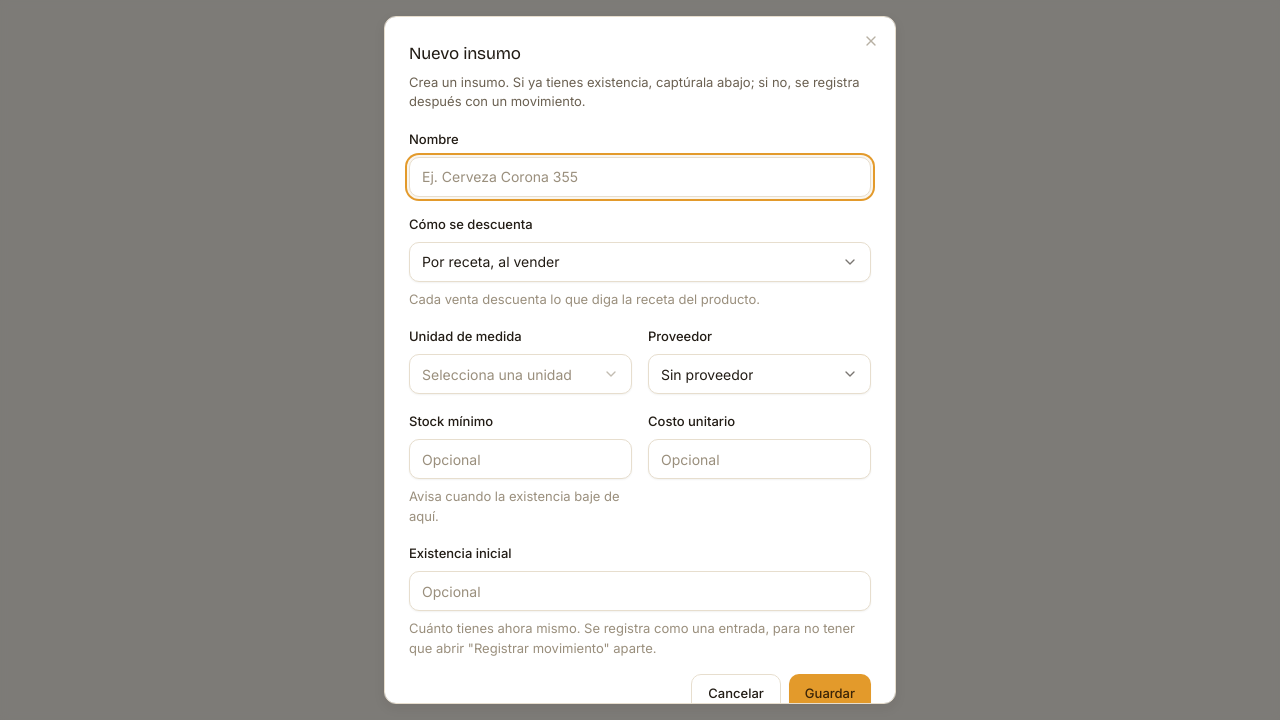
Test: InsumoFormDialog · cómo se descuenta › al elegir conteo físico avisa que no podrá usarse en recetas
Click the dropdown named "cómo se descuenta": coordinates (491, 262) [409,242,871,282]
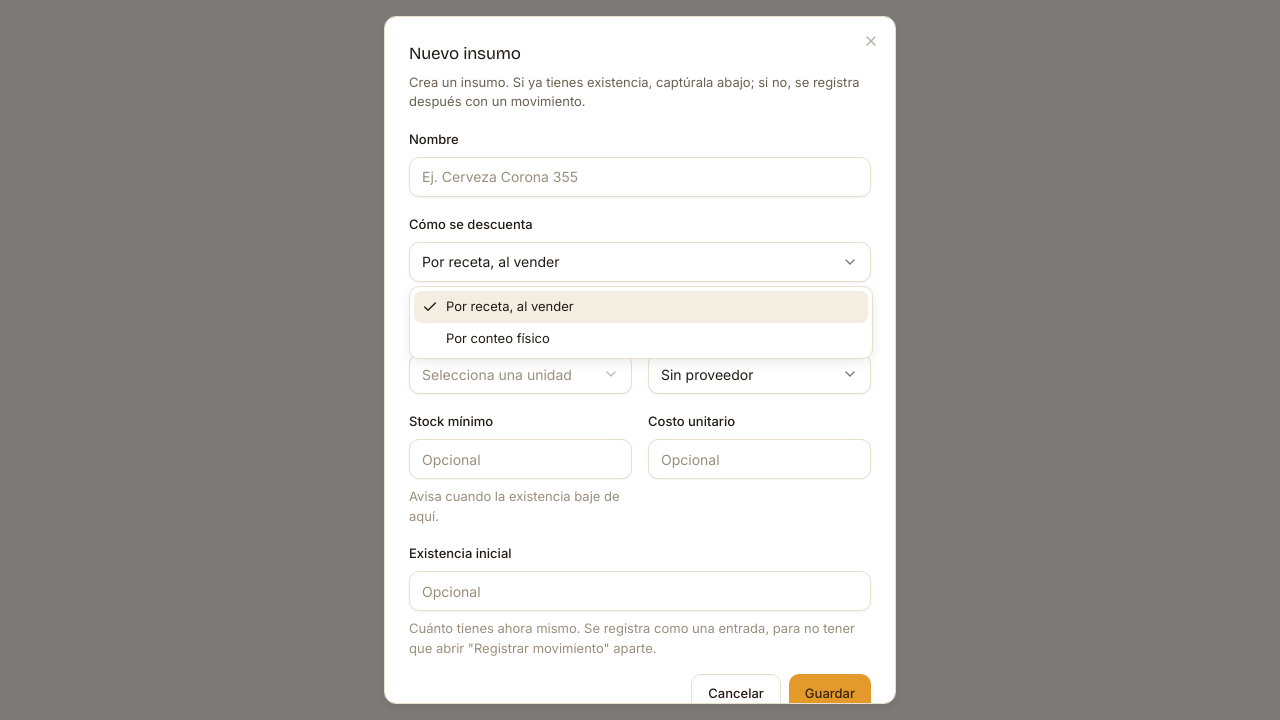
Click the option "Por conteo físico": coordinates (498, 338) [446,330,550,346]
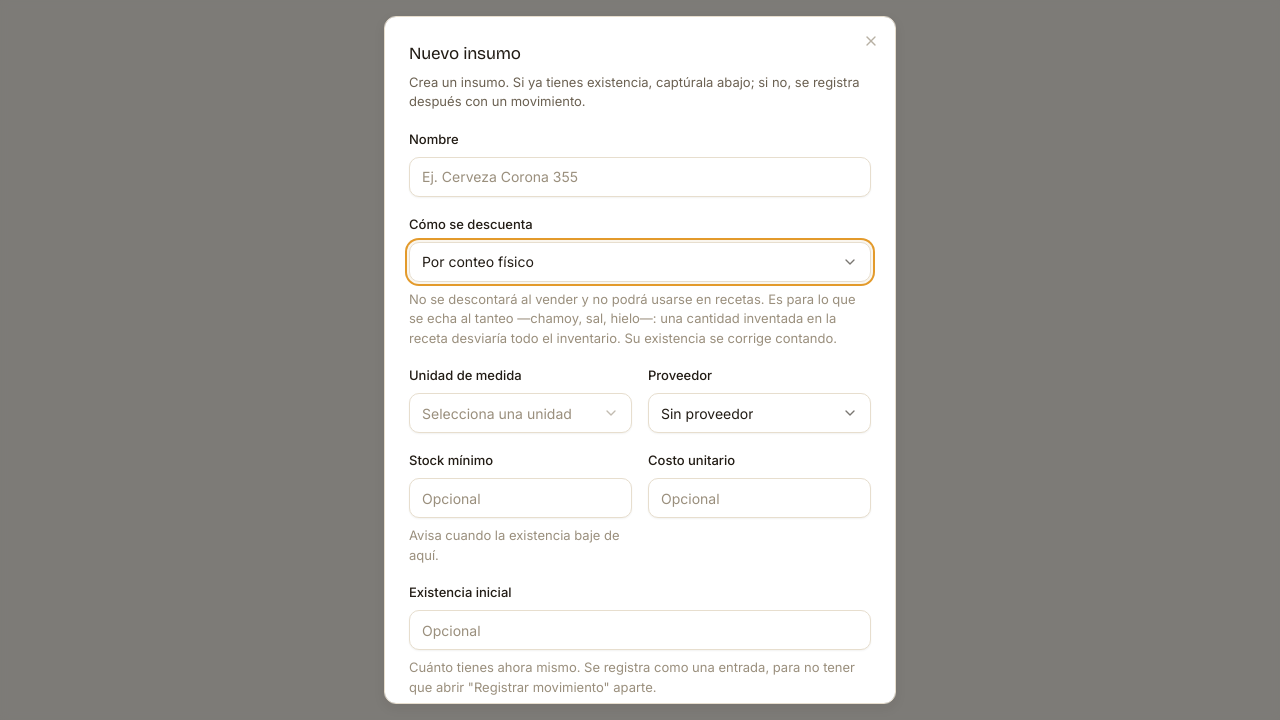
Now the text "no podrá usarse en recetas" is shown, box [409,290,856,346]
